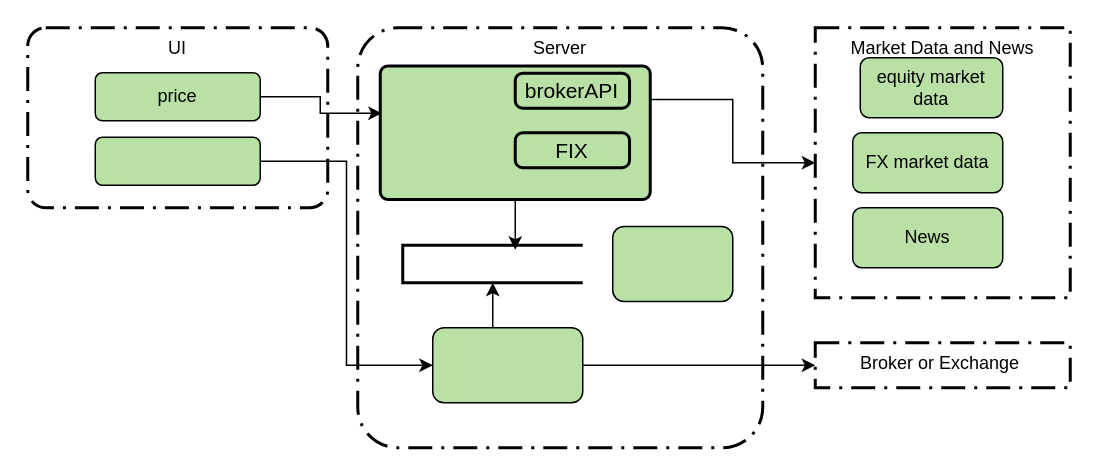
This 1097x474 diagram has some shape labels left out. Each missing label, with the centre of its shape:
"algorithm" goes at point (672, 263).
"Chronicle Queue" goes at point (492, 263).
"data-handleer" goes at point (447, 132).
"order" goes at point (177, 160).
"order-management" goes at point (507, 364).
